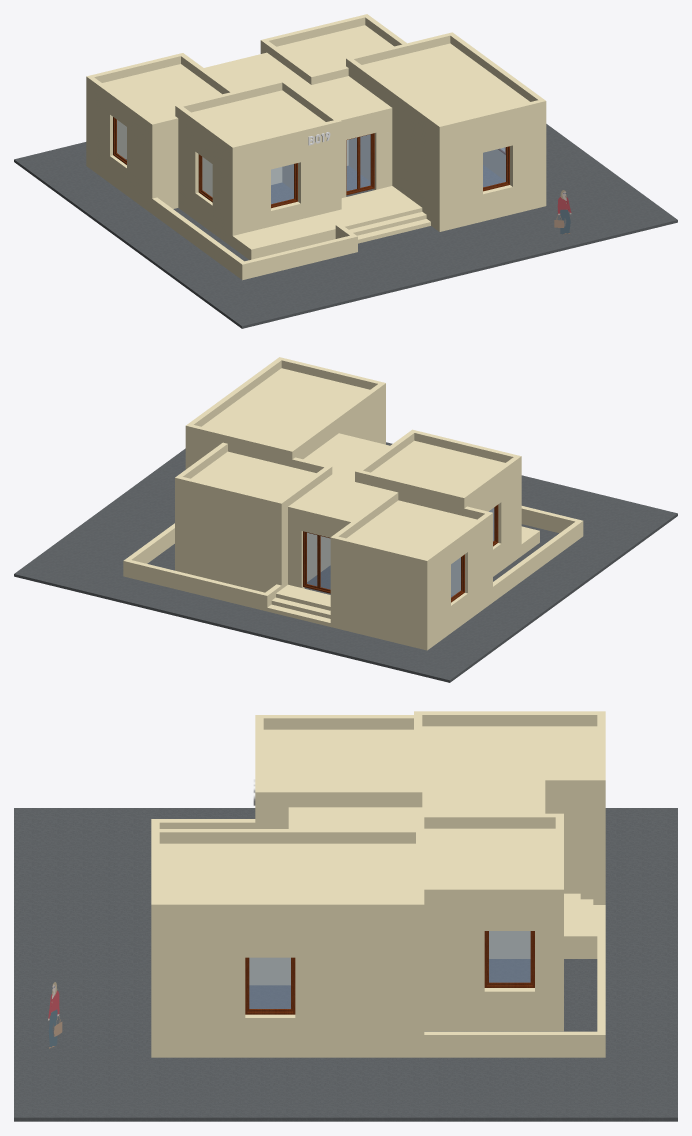
The picture shows the model from 3 angles, top to bottom: view 1: azimuth 30°, elevation 25°; view 2: azimuth 150°, elevation 25°; view 3: azimuth 270°, elevation 25°; orthographic projection. The views are drawn at different scales.
Parts seen in each view (by area): view 1: 17283, 19186, 18481, 18791, 18832, 18769, 18802, Component#1 (×4), 18813, Component#2, 18660, 18732 (+1 smaller); view 2: 17283, 19186, 18791, 18832, 18802, 18769, 18198, 18813, 18481, Component#2, 18291, 18344 (+2 smaller); view 3: 19186, 17283, 18791, 18769, 18802, 18813, 18198, 18832, Component#1 (×2), 18481, 18291, Laura.
Boxes of the visible parts, x1,y1,x2,y2 form: 17283: (86, 14, 546, 247); 19186: (14, 124, 677, 328); 18481: (152, 186, 422, 280); 18791: (362, 43, 529, 123); 18832: (206, 54, 388, 118); 18769: (191, 90, 325, 144); 18802: (102, 64, 221, 121); Component#1 (×4): (113, 117, 509, 208); 18813: (276, 25, 393, 73); Component#2: (346, 133, 374, 195); 18660: (349, 212, 426, 235); 18732: (357, 219, 430, 243); 17283: (175, 357, 521, 650); 19186: (14, 442, 677, 682); 18791: (202, 368, 369, 448); 18832: (291, 435, 394, 520); 18802: (346, 500, 476, 557); 18769: (371, 440, 504, 494); 18198: (123, 523, 281, 611); 18813: (191, 451, 316, 500); 18481: (493, 506, 583, 601); Component#2: (303, 531, 330, 593); 18291: (276, 584, 330, 610); 18344: (267, 604, 330, 626); 19186: (14, 808, 677, 1121); 17283: (151, 711, 605, 1057); 18791: (159, 843, 415, 900); 18769: (263, 729, 413, 788); 18802: (422, 726, 597, 776); 18813: (424, 828, 555, 885); 18198: (424, 932, 605, 1057); 18832: (297, 779, 536, 828); Component#1 (×2): (245, 931, 534, 1014); 18481: (151, 819, 255, 828); 18291: (564, 893, 580, 932); Laura: (48, 982, 62, 1048).
Size of the model in its own units: 17.57 by 4.15 by 15.92.
434 materials, 43 textured.
